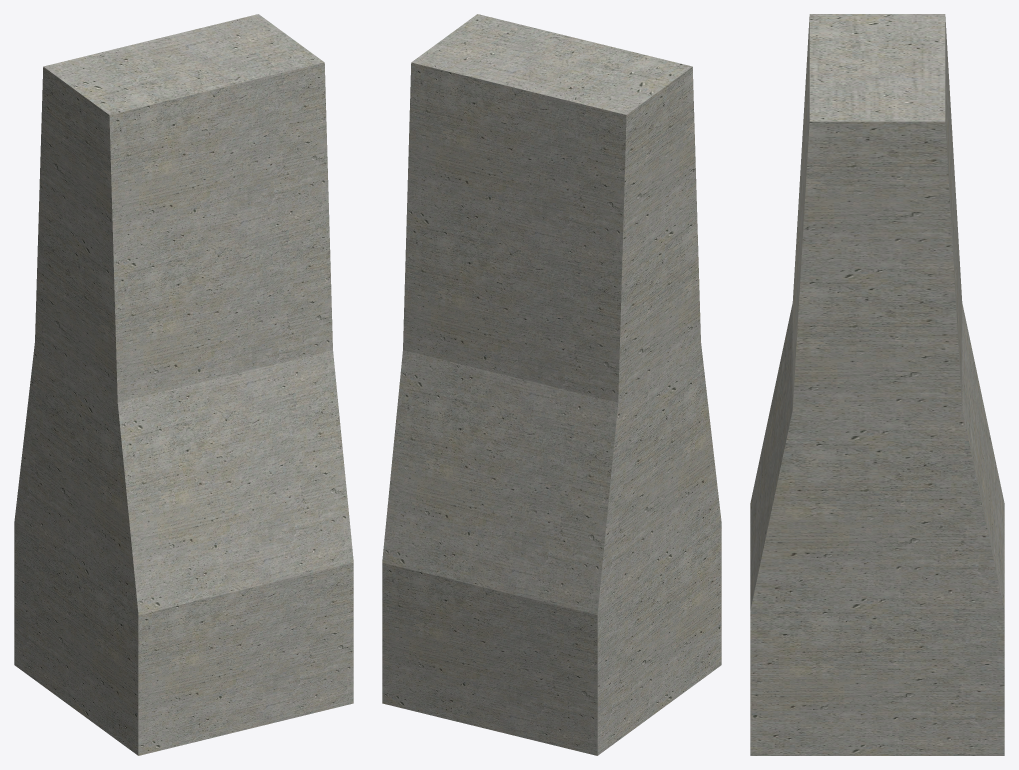
File: thm_corl_imprv_column_s04_l0.fbx
3 views of the same model, side by side, from view 1: azimuth 30°, elevation 25°; view 2: azimuth 150°, elevation 25°; view 3: azimuth 270°, elevation 25° (orthographic). The views are drawn at different scales.
Parts seen in each view (by area): view 1: mesh_node; view 2: mesh_node; view 3: mesh_node.
Boxes of the visible parts, box(x1,y1,x2,y2) form: mesh_node: box(14, 14, 353, 755); mesh_node: box(382, 14, 721, 755); mesh_node: box(750, 14, 1004, 755).
Bounding box in the file's own units: 2 × 5.5 × 2.
Materials: 1 (1 with a texture image).
